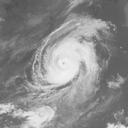cyclone: (33, 35, 89, 89)
